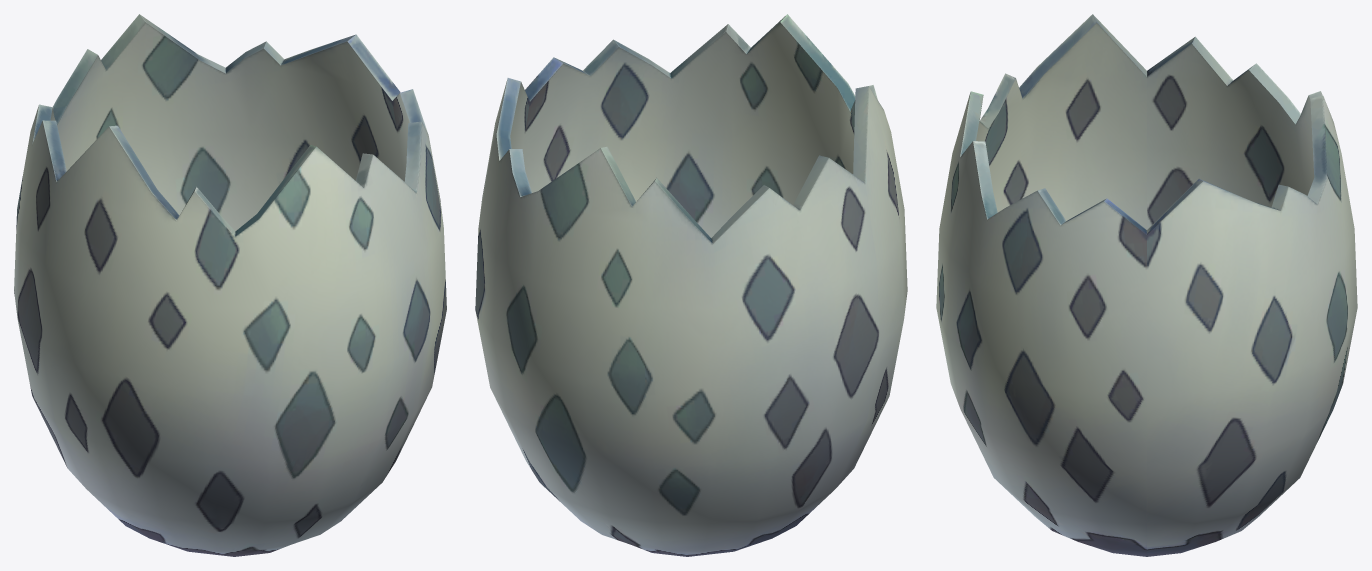
File: Hero_Lilia_Cos19UserPick_Weapon.fbx
3 renders of one model, left to right at view 1: azimuth 30°, elevation 25°; view 2: azimuth 150°, elevation 25°; view 3: azimuth 270°, elevation 25°, orthographic. The views are drawn at different scales.
Visible parts, largest first — view 1: Hero_Lilia_Cos19UserPick_Weapon; view 2: Hero_Lilia_Cos19UserPick_Weapon; view 3: Hero_Lilia_Cos19UserPick_Weapon.
Boxes of the visible parts, <box> form: Hero_Lilia_Cos19UserPick_Weapon: <box>14,14,446,556</box>; Hero_Lilia_Cos19UserPick_Weapon: <box>475,14,907,556</box>; Hero_Lilia_Cos19UserPick_Weapon: <box>936,14,1357,556</box>.
Size of the model in its own units: 0.363 by 0.4292 by 0.363.
1 material, 1 textured.
